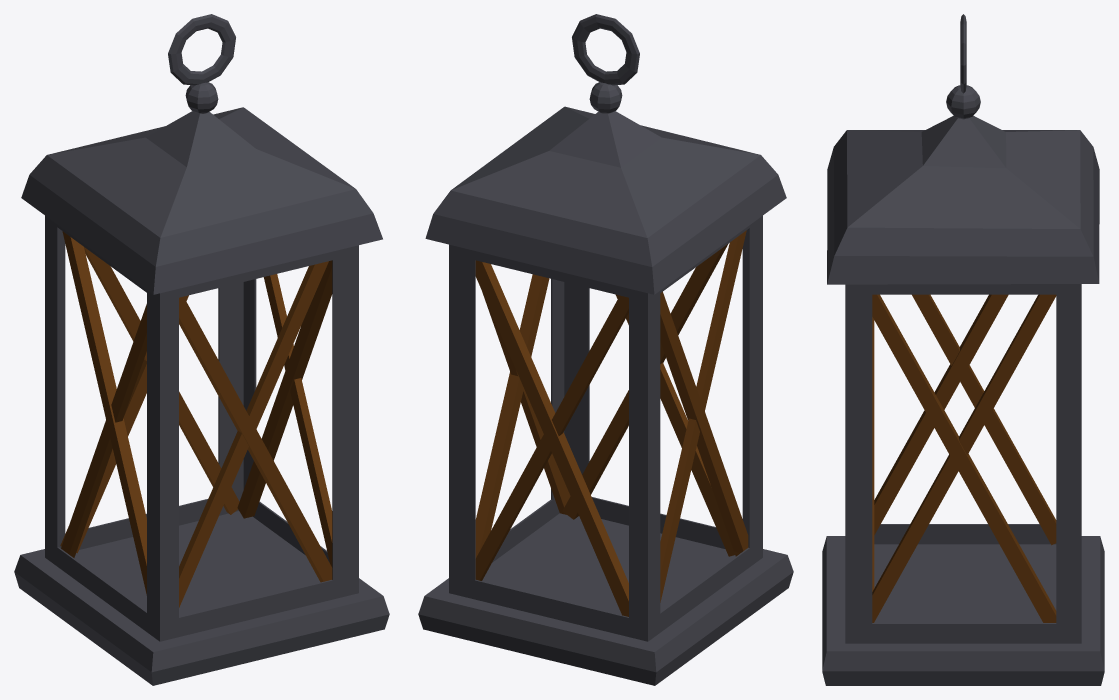
Rendered from lanterngud.fbx.
The picture shows the model from 3 angles, left to right: view 1: azimuth 30°, elevation 25°; view 2: azimuth 150°, elevation 25°; view 3: azimuth 270°, elevation 25°; orthographic projection. The views are drawn at different scales.
Parts seen in each view (by area): view 1: Cone; view 2: Cone; view 3: Cone.
Boxes of the visible parts, left/top/right/bottom form: Cone: left=14, top=14, right=389, bottom=685; Cone: left=418, top=14, right=793, bottom=685; Cone: left=822, top=14, right=1104, bottom=685.
Bounding box in the file's own units: 293 × 696 × 293.
